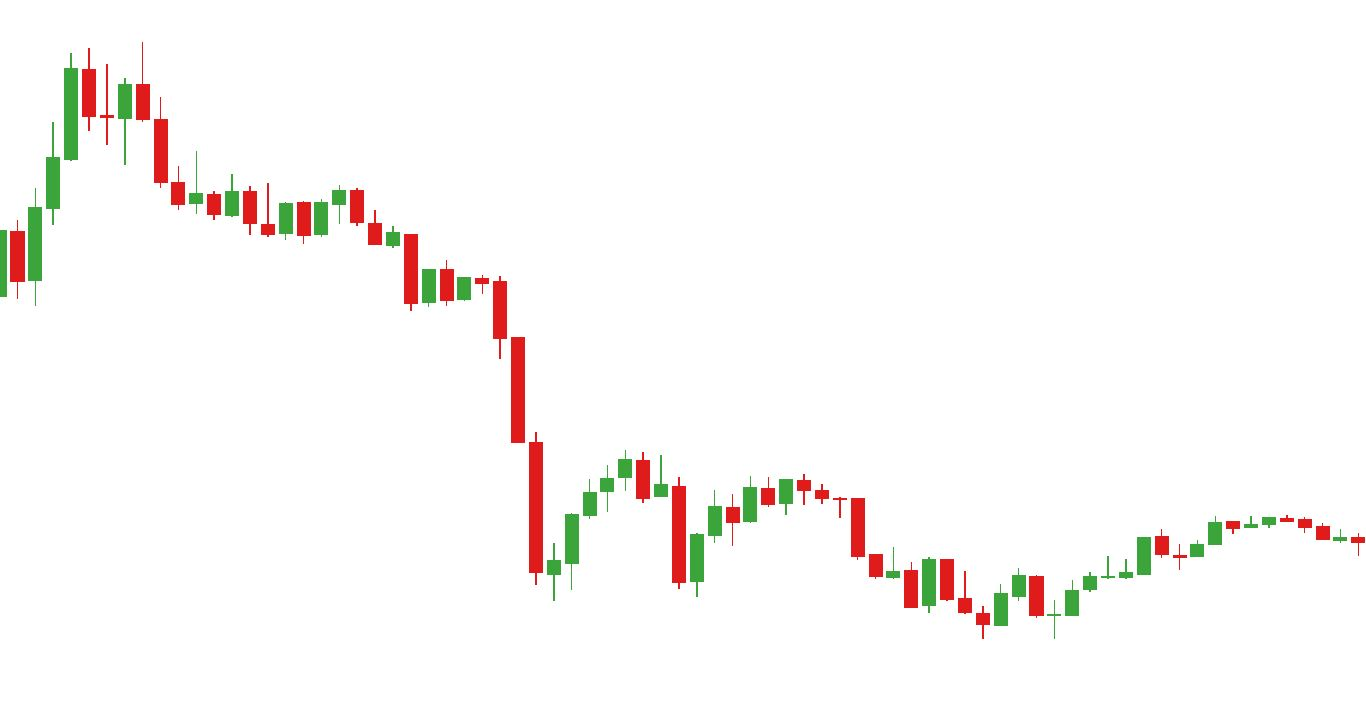buy: (563, 472, 707, 600)
